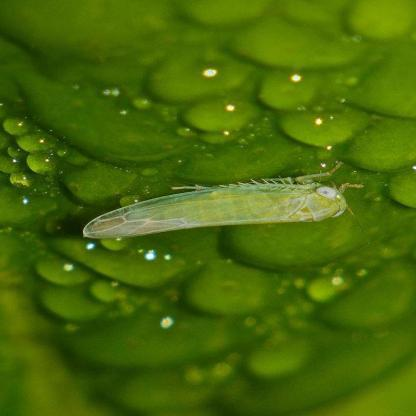green-leafhopper: (78, 170, 351, 242)
